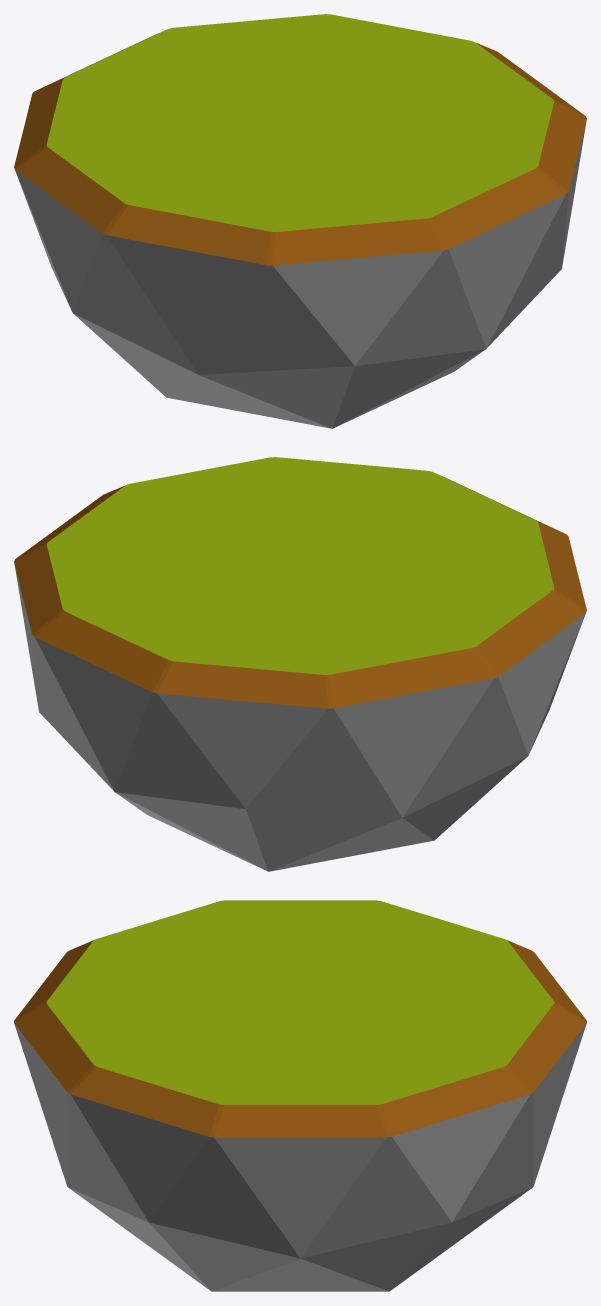
Rendered from island.glb.
The picture shows the model from 3 angles, top to bottom: view 1: azimuth 30°, elevation 25°; view 2: azimuth 150°, elevation 25°; view 3: azimuth 270°, elevation 25°; orthographic projection. The views are drawn at different scales.
Visible parts, largest first — view 1: island; view 2: island; view 3: island.
Boxes of the visible parts, x1,y1,x2,y2 form: island: (14,14,586,428); island: (14,457,586,871); island: (14,900,586,1291).
Size of the model in its own units: 178 by 98.97 by 186.
